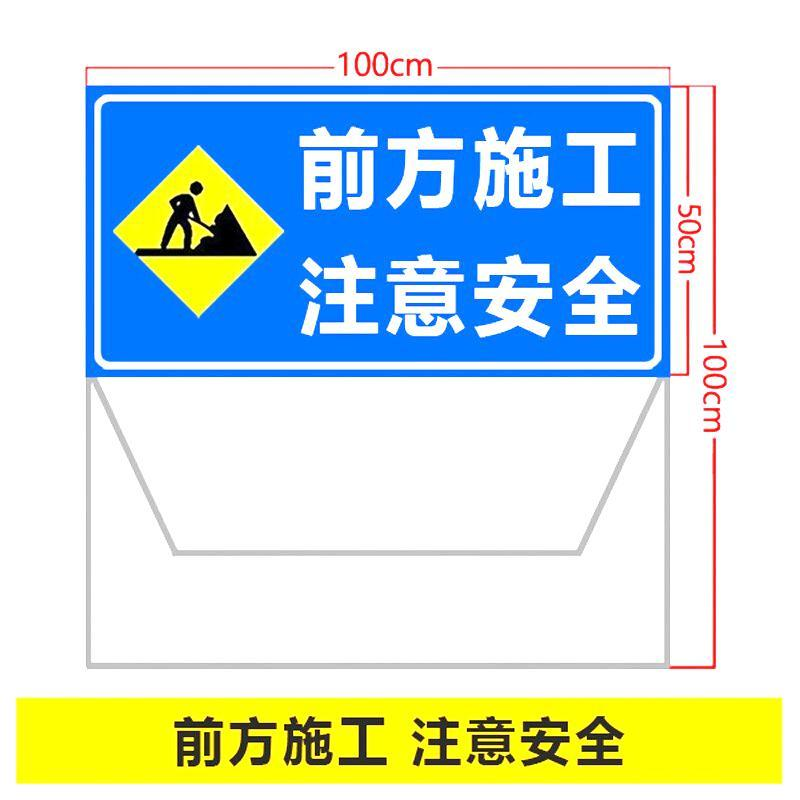sign: (83, 85, 673, 377)
